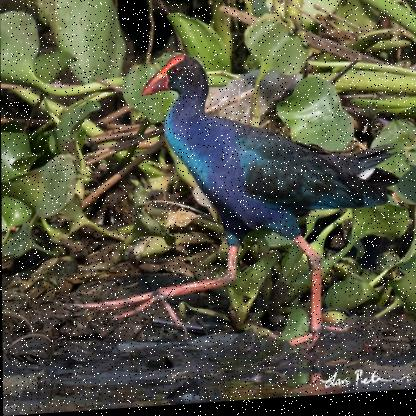Burung: (139, 46, 396, 365)
